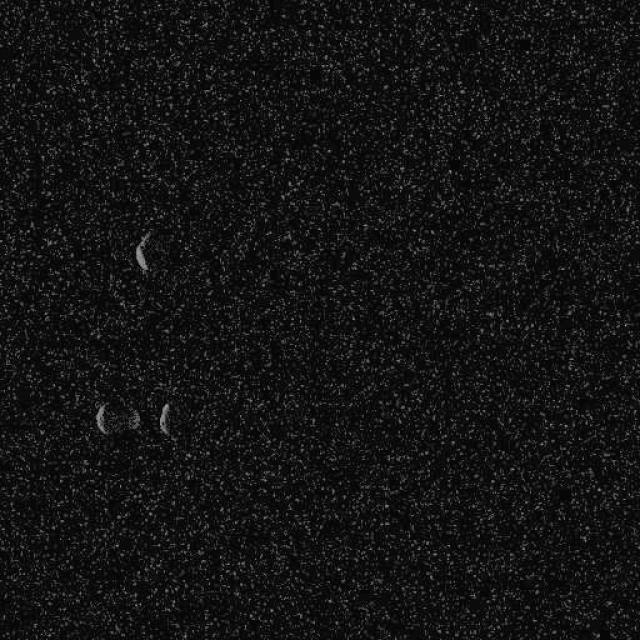D2: (94, 400, 140, 436), (134, 228, 152, 274), (156, 402, 172, 436)
